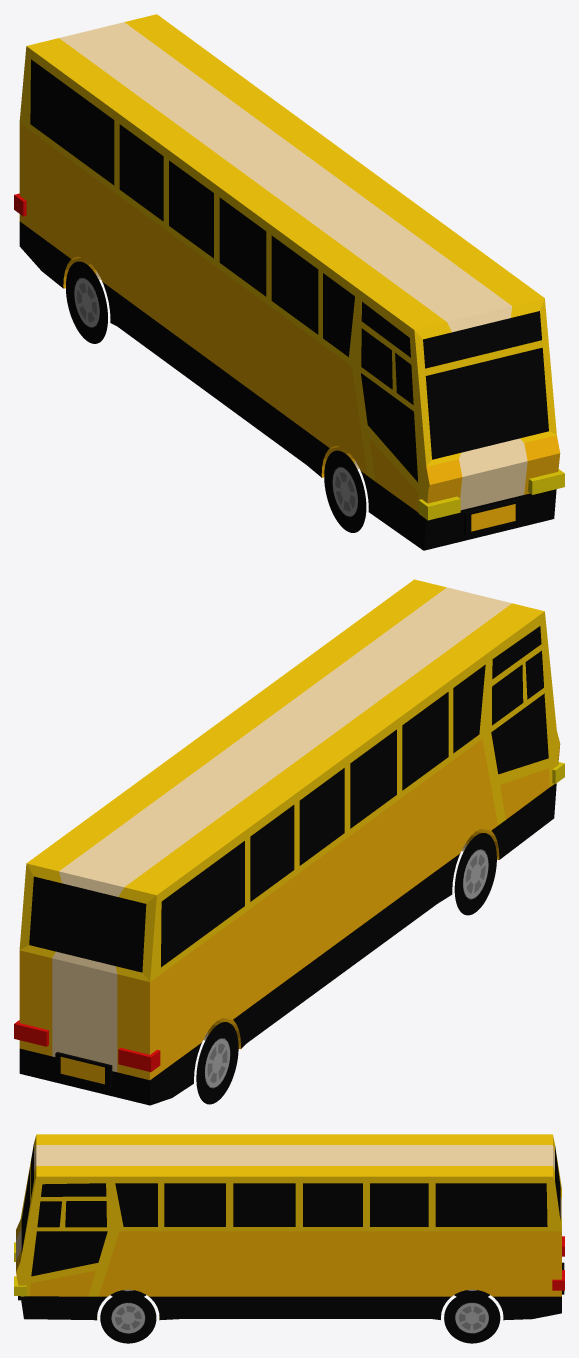
Rendered from Bis_1_Kuning_D.fbx.
The picture shows the model from 3 angles, top to bottom: view 1: azimuth 30°, elevation 25°; view 2: azimuth 150°, elevation 25°; view 3: azimuth 270°, elevation 25°; orthographic projection. The views are drawn at different scales.
Parts seen in each view (by area): view 1: Mobil6.001; view 2: Mobil6.001; view 3: Mobil6.001.
Boxes of the visible parts, x1,y1,x2,y2 form: Mobil6.001: [14, 14, 564, 550]; Mobil6.001: [14, 579, 564, 1105]; Mobil6.001: [14, 1134, 564, 1343].
Bounding box in the file's own units: 420 × 734 × 2197.
5 materials, 3 textured.
